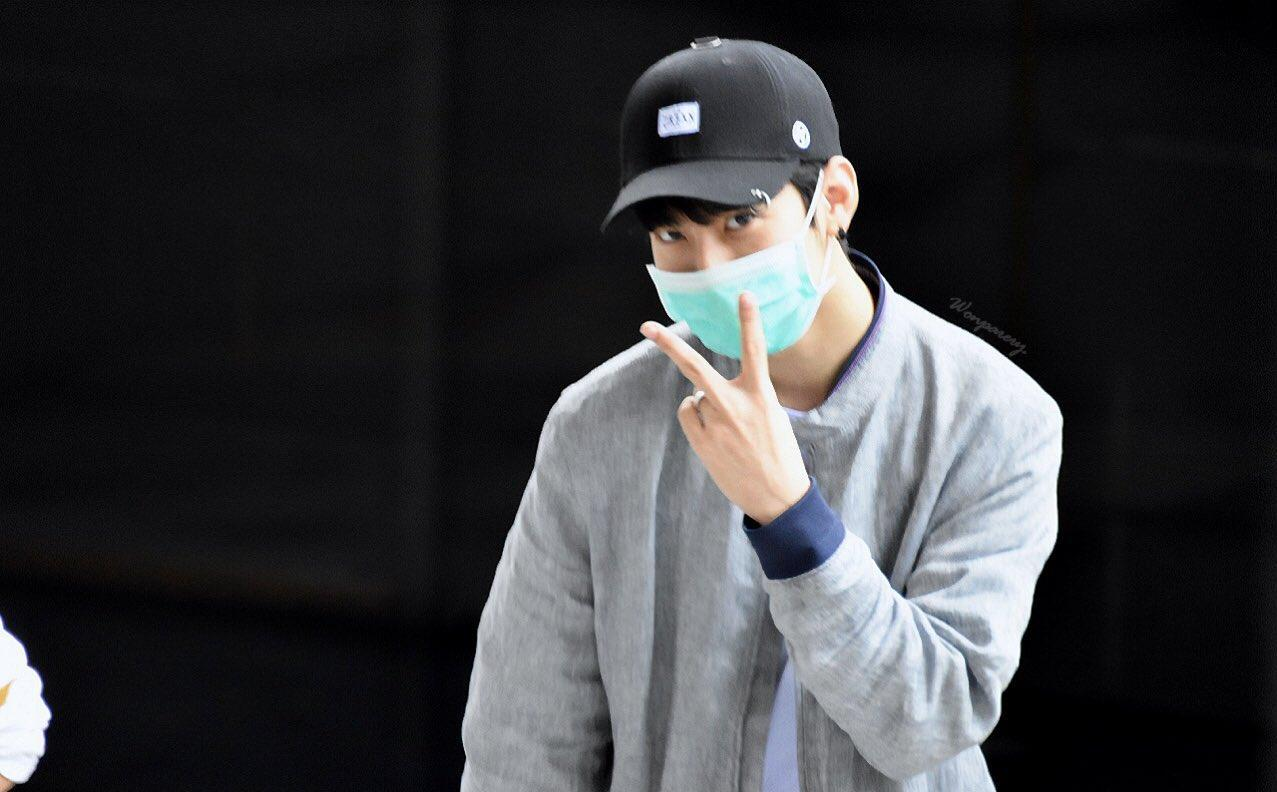WRONG: (648, 180, 831, 361)
